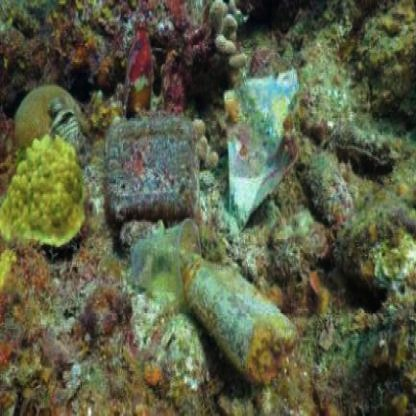gbottle: (186, 235, 302, 380)
misc: (94, 107, 209, 217)
plastic: (224, 56, 309, 219), (140, 216, 217, 306)
